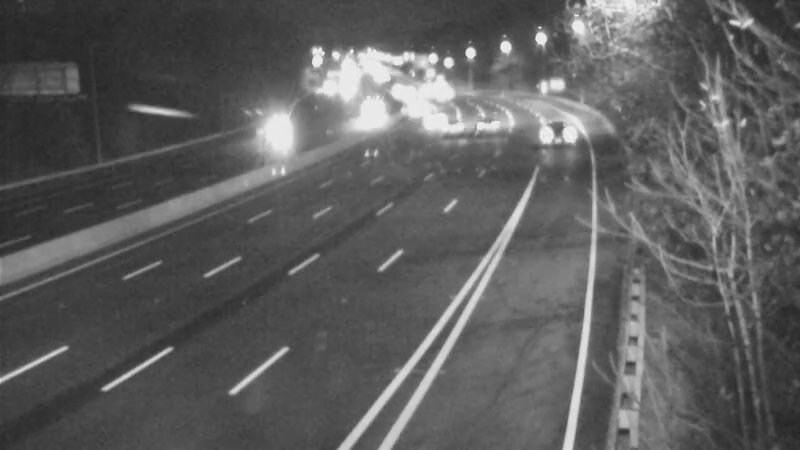vehicle: (384, 82, 434, 132), (406, 90, 456, 140), (463, 96, 513, 146), (422, 100, 472, 150), (522, 108, 572, 158), (245, 116, 295, 166), (338, 93, 388, 143)
